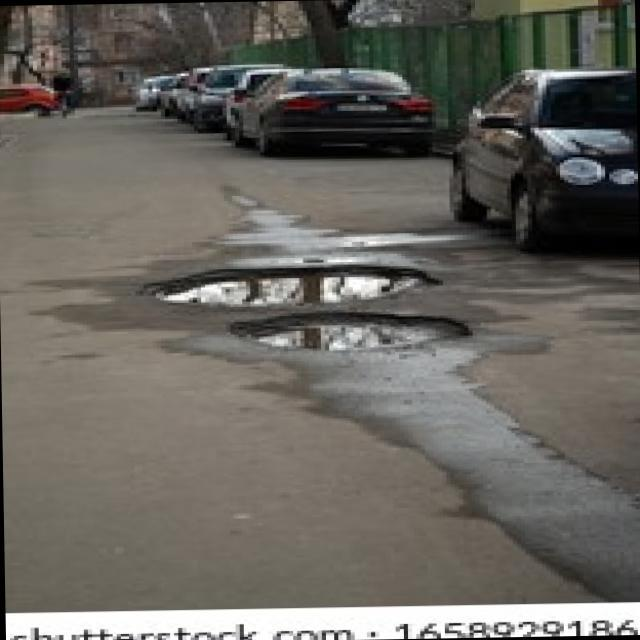Pothole: (139, 260, 447, 310), (225, 307, 480, 357)
